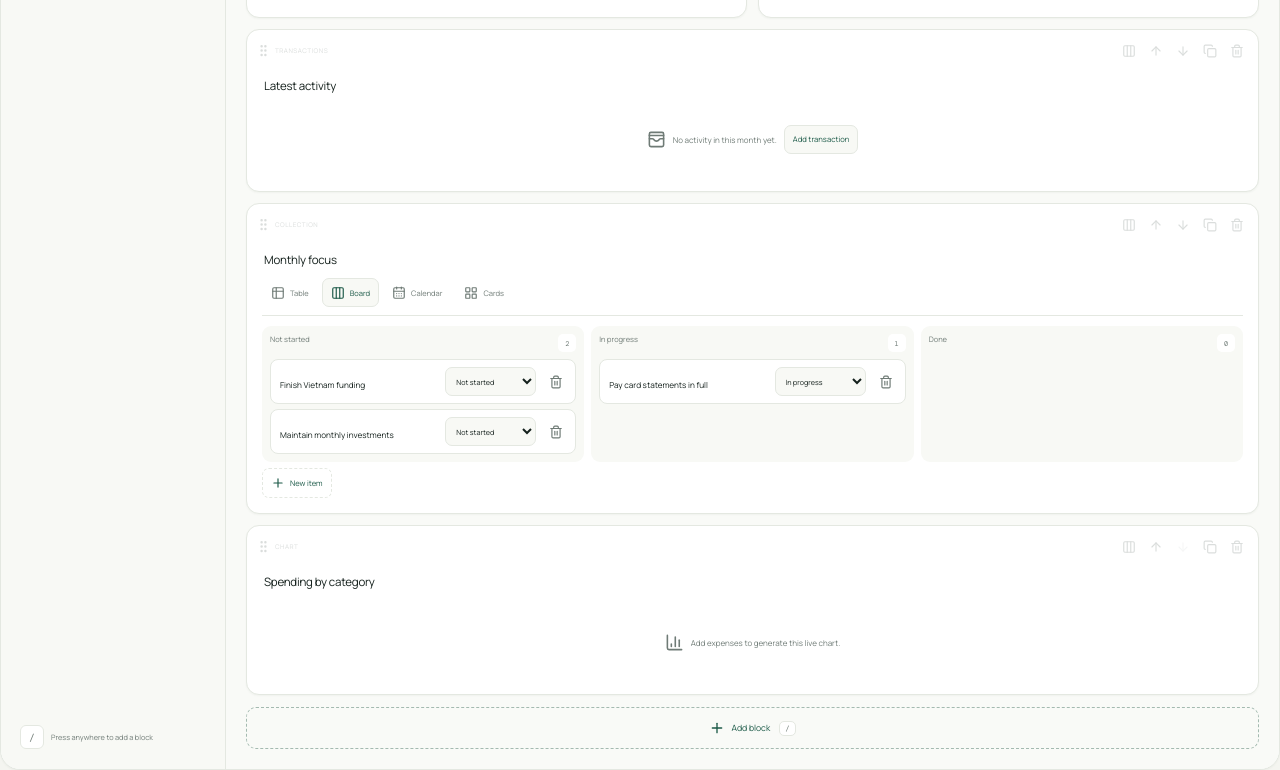
Workspace builder › adds a block and changes a collection view without duplicating its items
The image size is (1280, 770).
(page scrolled)
Click the button "Add block /" at {"x": 752, "y": 728}, box left=246, top=707, right=1259, bottom=749
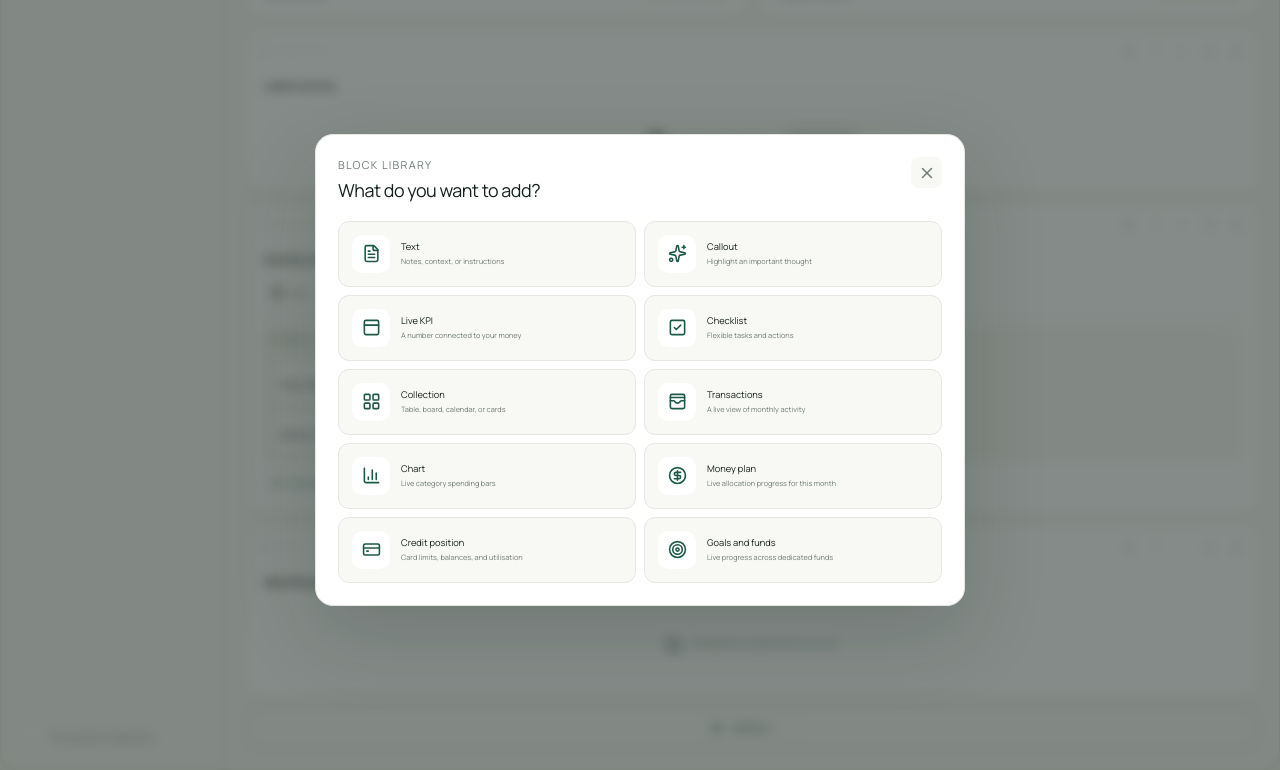
Click the button "Checklist Flexible tasks and actions" at {"x": 793, "y": 328}, box left=644, top=295, right=942, bottom=361
(page scrolled)
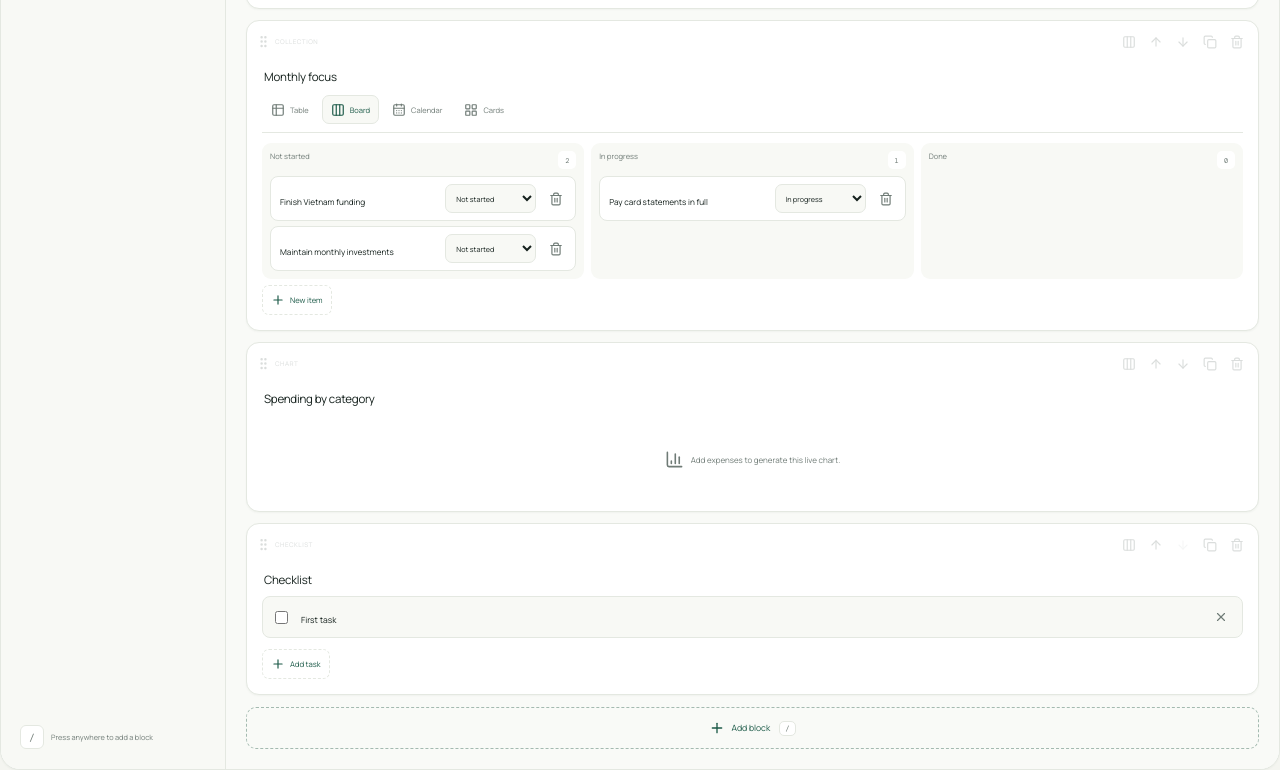
Expected: the 6th field named "checklist block title" holds "Checklist", left=262, top=562, right=1243, bottom=596
Click the button "Table" at {"x": 290, "y": 110}, box left=262, top=95, right=318, bottom=124
(page scrolled)
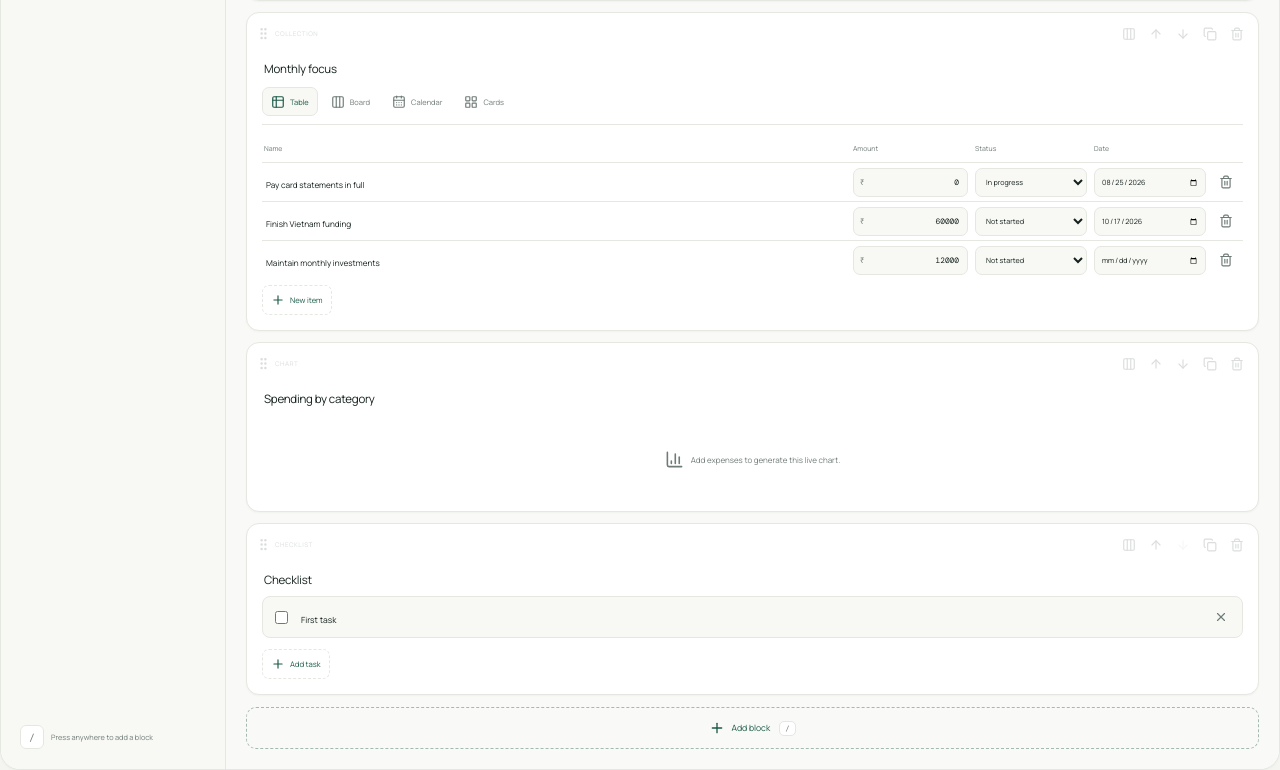
Expected: the text "Name" is shown, left=264, top=144, right=282, bottom=153
Expected: the 2nd field named "Item name" holds "Pay card statements in full", left=264, top=178, right=846, bottom=191
